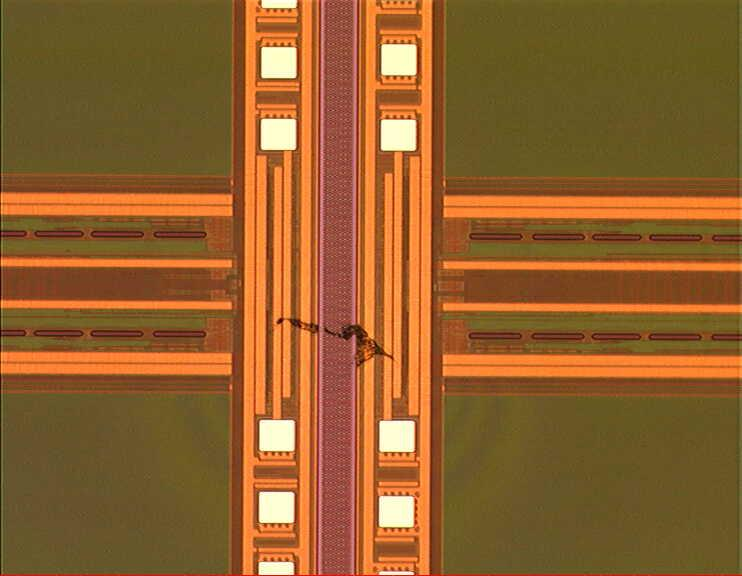PIQ PARTICLE: (268, 310, 402, 372)
